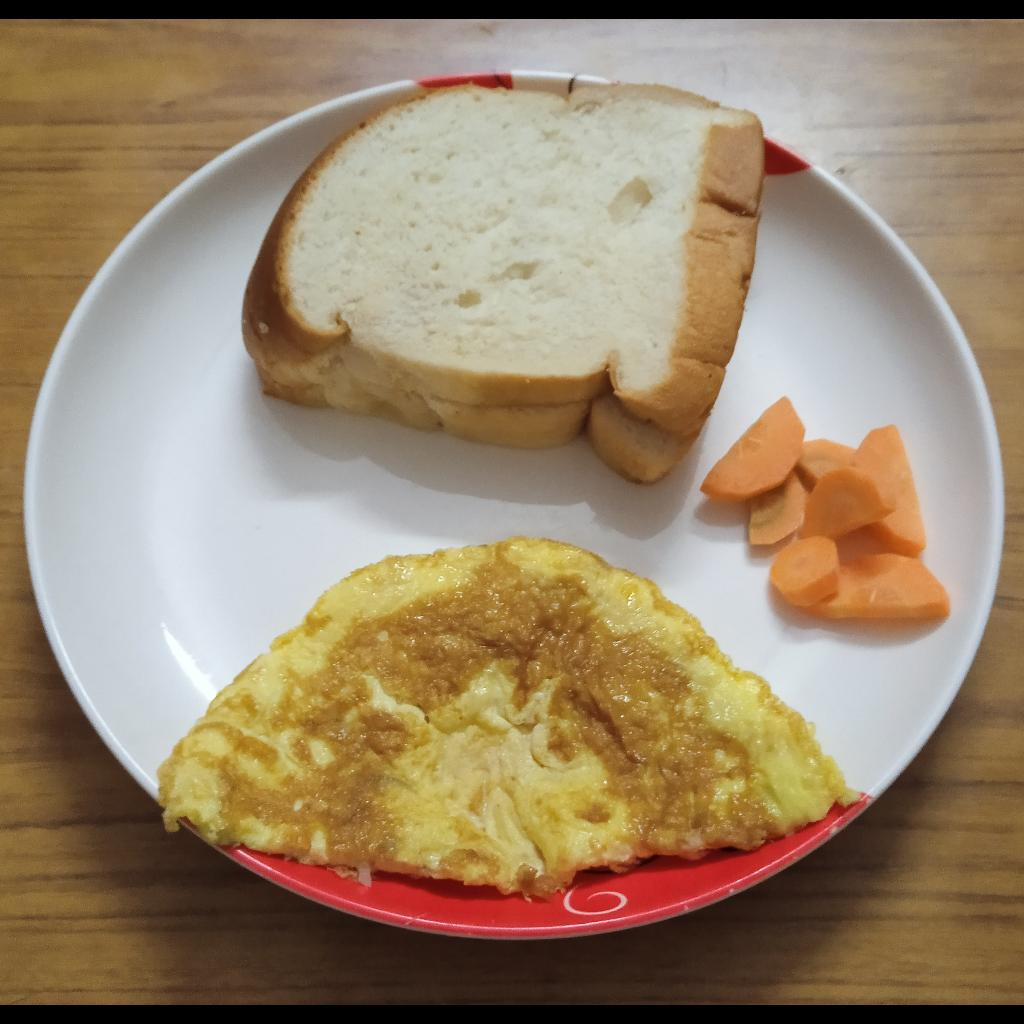bread: (237, 70, 767, 488)
carrot: (699, 395, 953, 622)
egg-poached: (156, 535, 862, 904)
